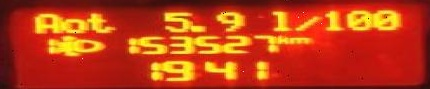-: (189, 23, 206, 33)
0: (373, 10, 399, 31), (345, 9, 371, 30)
1: (250, 59, 271, 82), (323, 8, 342, 31), (149, 60, 163, 81), (45, 37, 56, 55), (125, 35, 135, 54)
2: (222, 34, 248, 55)
3: (168, 35, 193, 54)
4: (203, 60, 238, 81)
5: (160, 9, 189, 32), (137, 34, 165, 53), (193, 33, 219, 52)
7: (252, 34, 278, 53)
9: (162, 58, 193, 81), (215, 11, 241, 30)
X: (87, 10, 116, 35), (269, 9, 291, 31), (33, 12, 57, 32), (61, 18, 87, 33), (295, 15, 317, 31), (290, 35, 309, 43), (278, 34, 292, 44)
